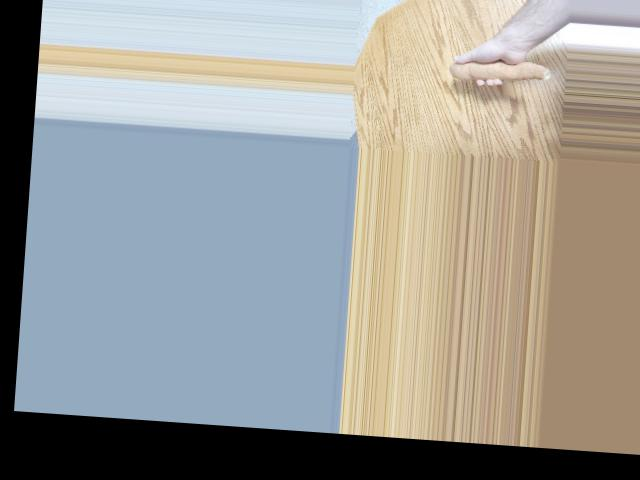sweet_potato: (441, 49, 553, 90)
